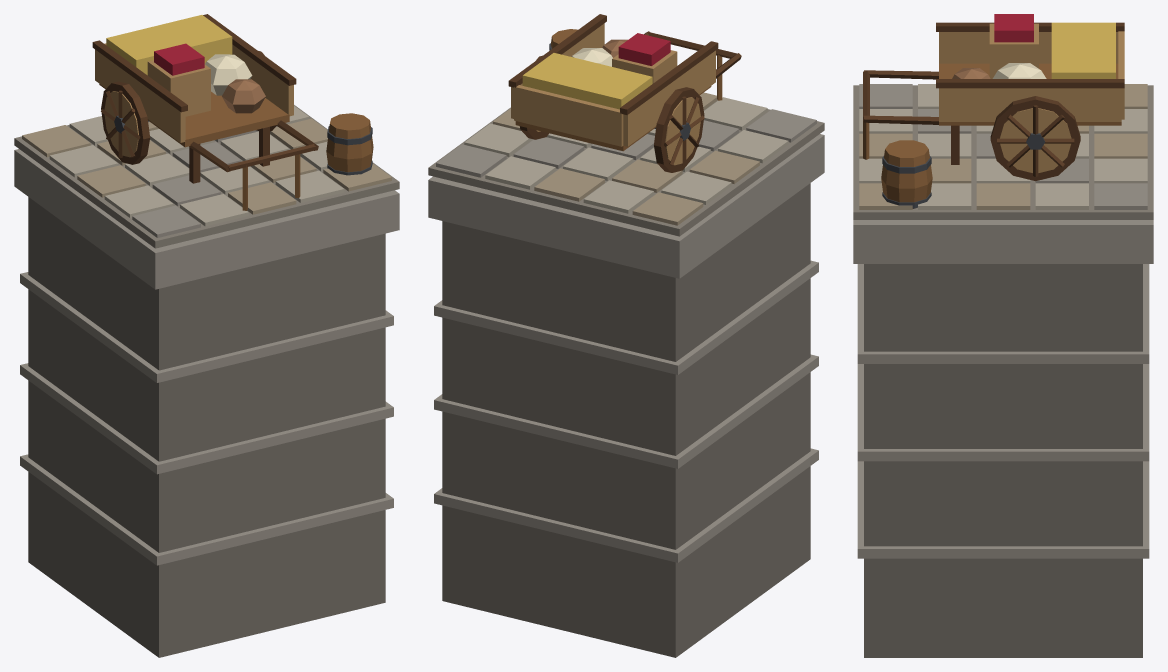
File: decor_cart_stand.glb
3 views of the same model, side by side, from view 1: azimuth 30°, elevation 25°; view 2: azimuth 150°, elevation 25°; view 3: azimuth 270°, elevation 25° (orthographic). The views are drawn at different scales.
Visible parts, largest first — view 1: decor_cart_stand; view 2: decor_cart_stand; view 3: decor_cart_stand.
Part boxes in pixels (x1,y1,x2,y2): decor_cart_stand: (14, 14, 399, 657); decor_cart_stand: (428, 14, 824, 657); decor_cart_stand: (853, 14, 1153, 657).
Bounding box in the file's own units: 2.8 × 5.81 × 2.8.
